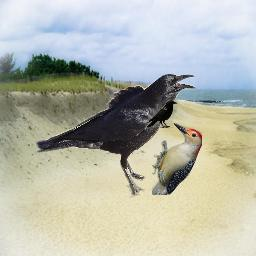Crow: (36, 73, 196, 198), (145, 99, 178, 129)
Woodpecker: (152, 123, 202, 195)
